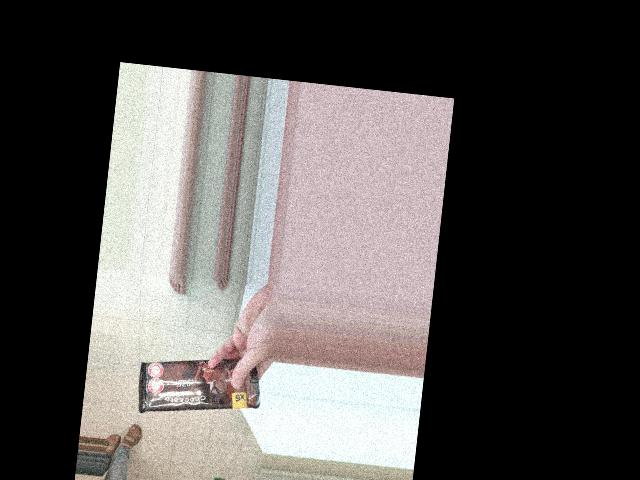chocolate: (135, 334, 268, 425)
